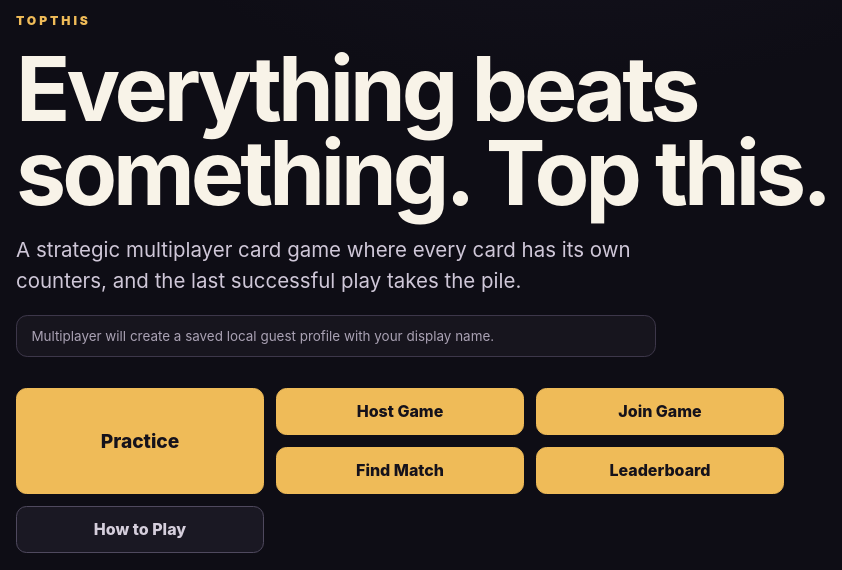
Test: TopThis matchmaking and leaderboard UI › renders an empty leaderboard
The image size is (842, 570).
(page scrolled)
What coordinates should you click on to do the following:
click the button "Leaderboard"
I would click on:
 (660, 470)
Its box is [536,447,784,494].
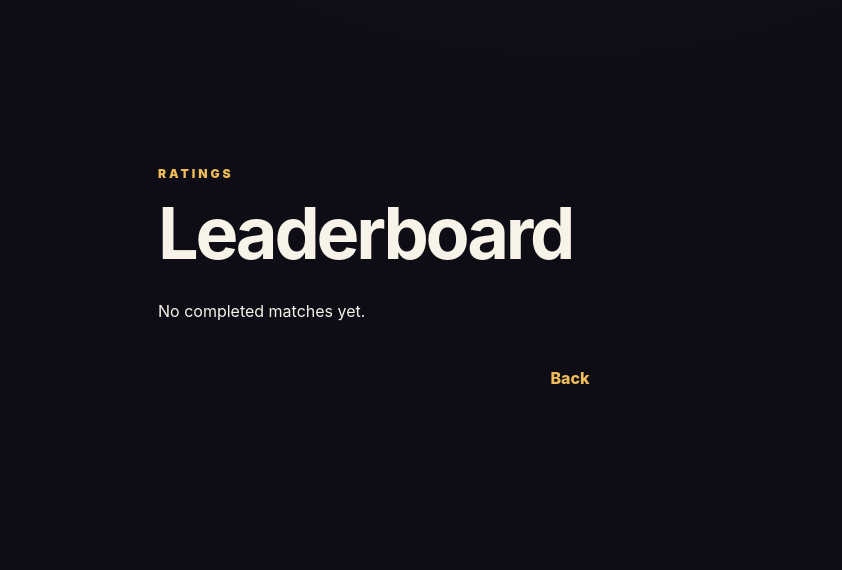
expect the text "No completed matches yet." is shown: met, box [158,301,365,321]
